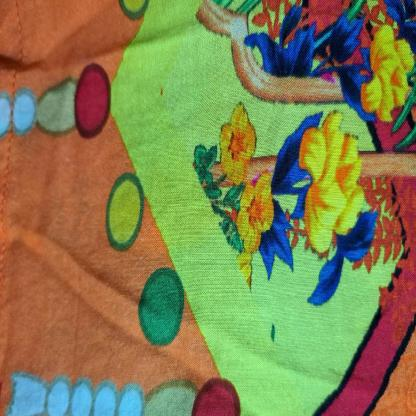spot: (269, 315, 279, 351), (158, 78, 168, 104)
